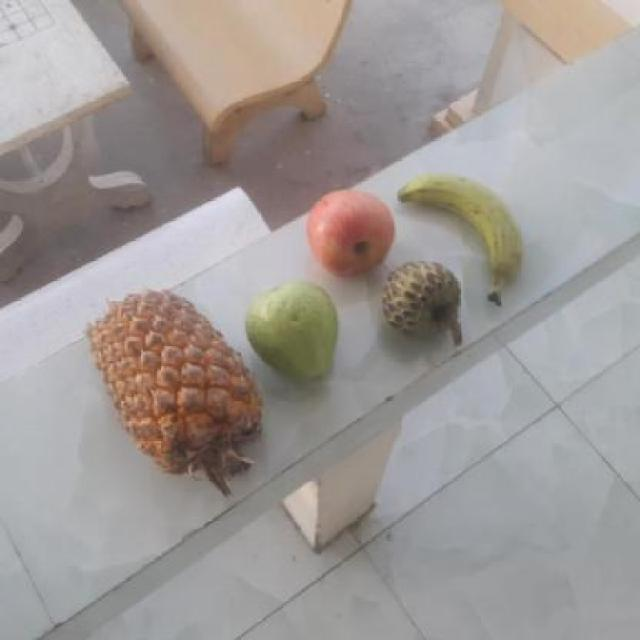apple: (302, 188, 399, 279)
banana: (388, 173, 529, 296)
guava: (240, 284, 340, 382)
pineapple: (86, 292, 260, 472)
sugar apple: (378, 258, 461, 344)
